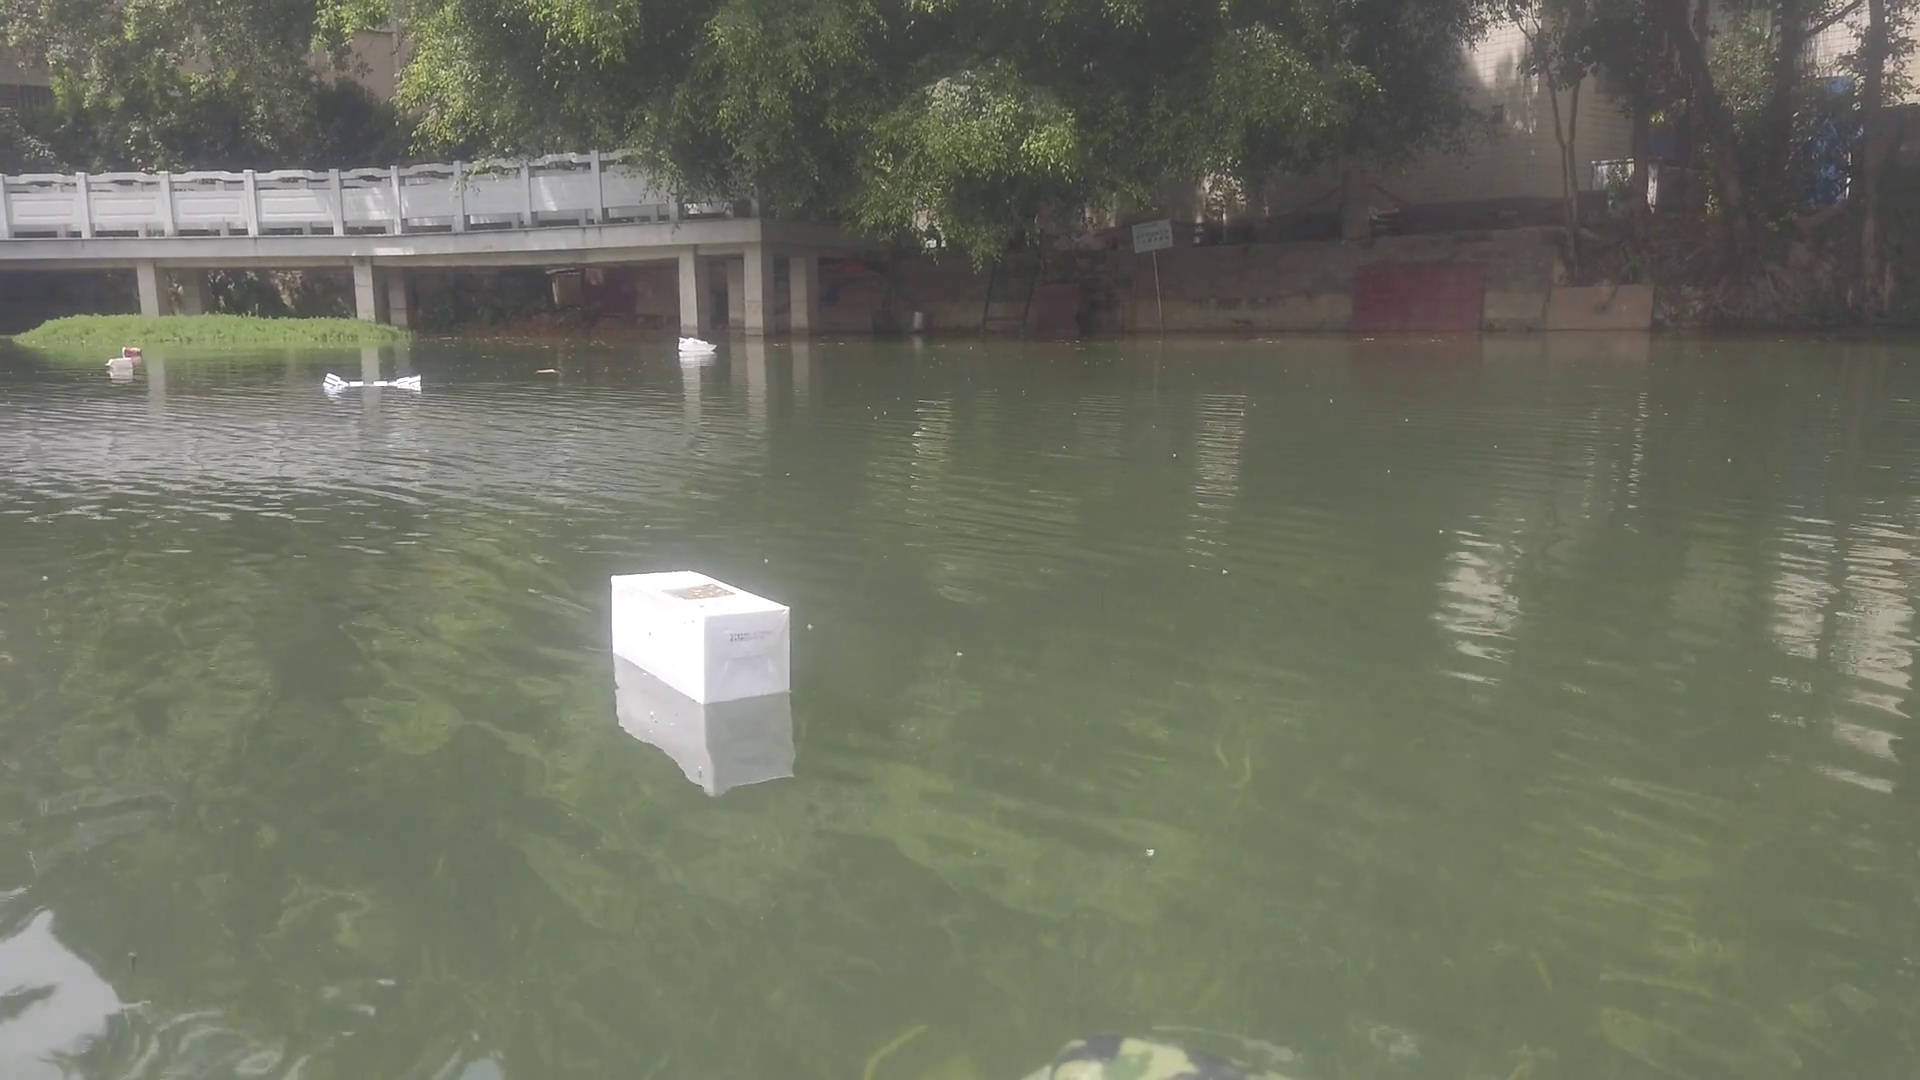bottle: (120, 343, 150, 357)
carton: (608, 567, 803, 708), (103, 356, 140, 371)
paper: (322, 371, 423, 393), (533, 364, 555, 375)
plastic: (674, 334, 717, 356)
